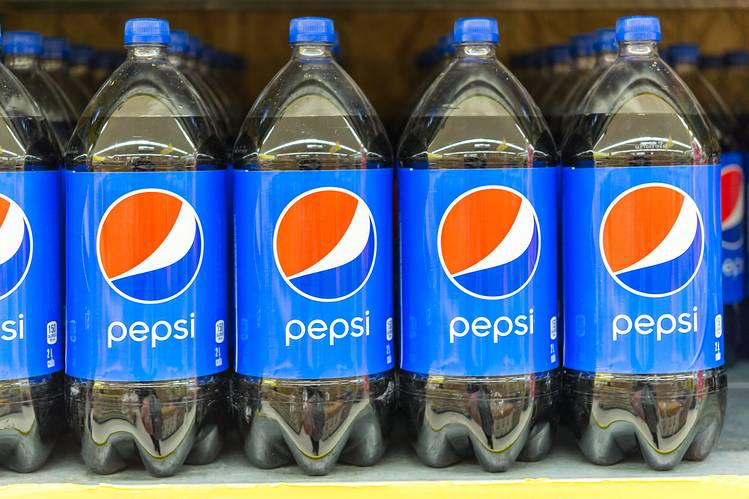pepsi: (95, 184, 203, 304), (595, 181, 704, 297), (596, 182, 704, 297), (437, 183, 542, 300), (273, 184, 377, 299), (439, 187, 542, 300), (0, 193, 32, 302)
